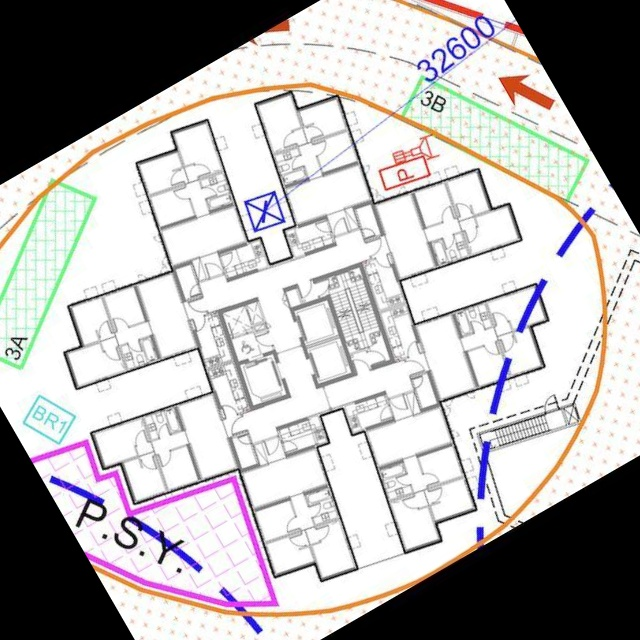tower_crane: (243, 191, 287, 233)
